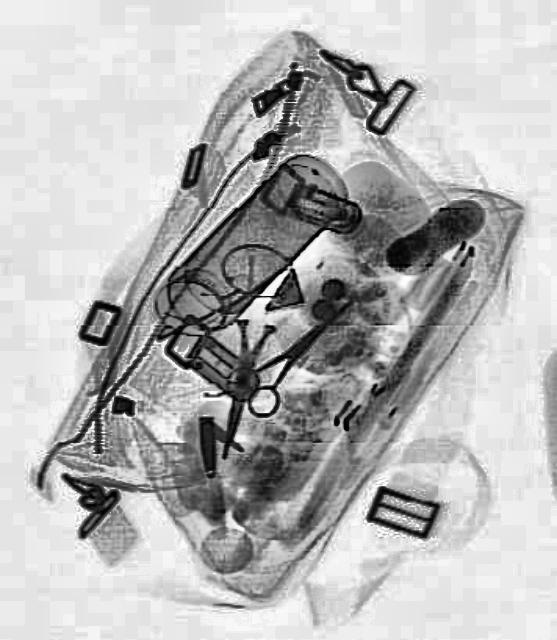Scissors: (219, 274, 371, 424)
